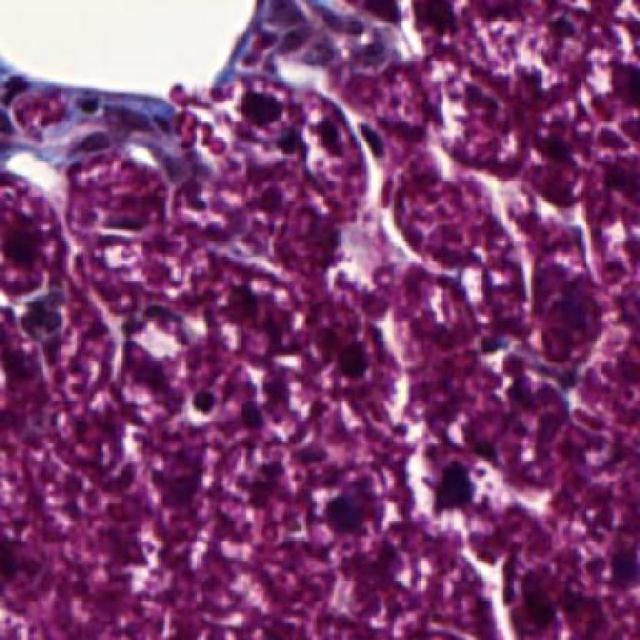inflammation: (81, 208, 177, 279), (420, 452, 504, 524), (217, 76, 307, 142)
